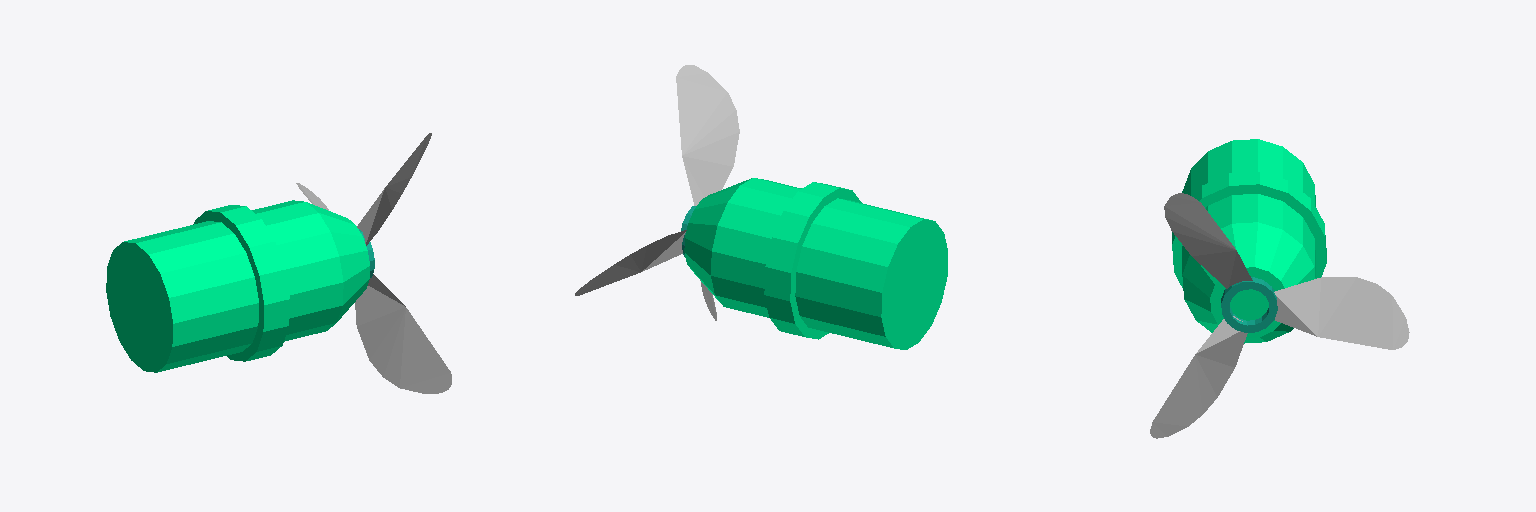
The model's file is propeller_green.obj.
3 renders of one model, left to right at view 1: azimuth 30°, elevation 25°; view 2: azimuth 150°, elevation 25°; view 3: azimuth 270°, elevation 25°, orthographic.
Parts seen in each view (by area): view 1: __, __.1, __.2; view 2: __, __.2, __.1; view 3: __, __.1, __.2, __.6.
Boxes of the visible parts, x1=… form: __: x1=106, y1=183, x2=369, y2=372; __.1: x1=193, y1=205, x2=451, y2=393; __.2: x1=357, y1=133, x2=431, y2=245; __: x1=575, y1=178, x2=947, y2=349; __.2: x1=676, y1=65, x2=739, y2=205; __.1: x1=700, y1=182, x2=861, y2=339; __: x1=1182, y1=139, x2=1409, y2=349; __.1: x1=1150, y1=172, x2=1326, y2=438; __.2: x1=1164, y1=193, x2=1252, y2=288; __.6: x1=1221, y1=277, x2=1277, y2=332.
Bounding box in the file's own units: 222 × 202 × 189.